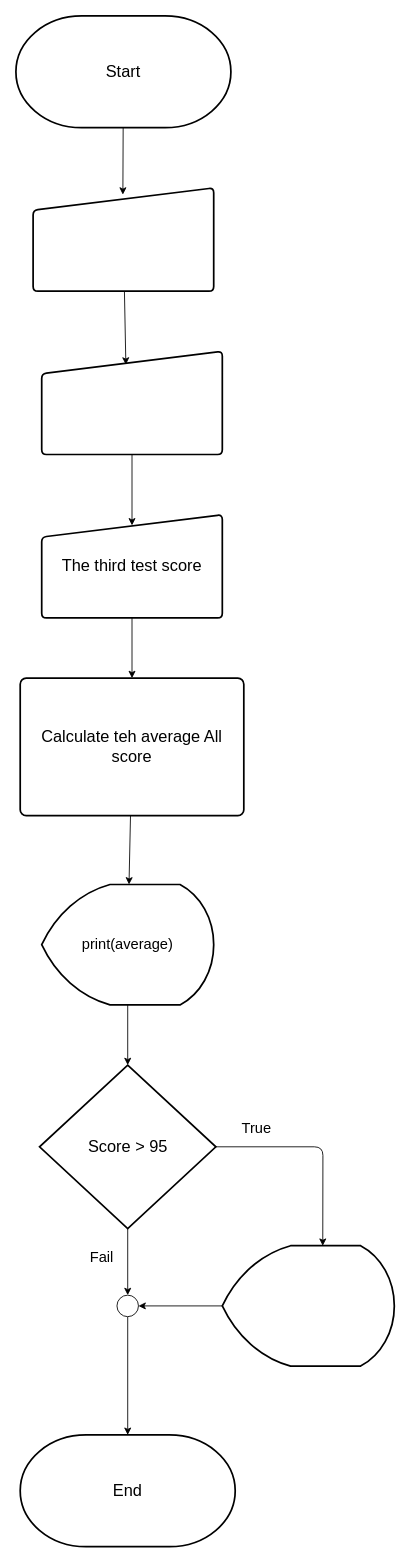
The diagram is 409 pixels wide and 1562 high, and some of its shapes have lost their labels. The box of each missing label's shape, as (x1, y1, x2, y2) in pixels:
print('Congratulatetions1'): (221, 1244, 395, 1367)
The first test score: (32, 187, 214, 292)
The second test score: (40, 350, 223, 455)
